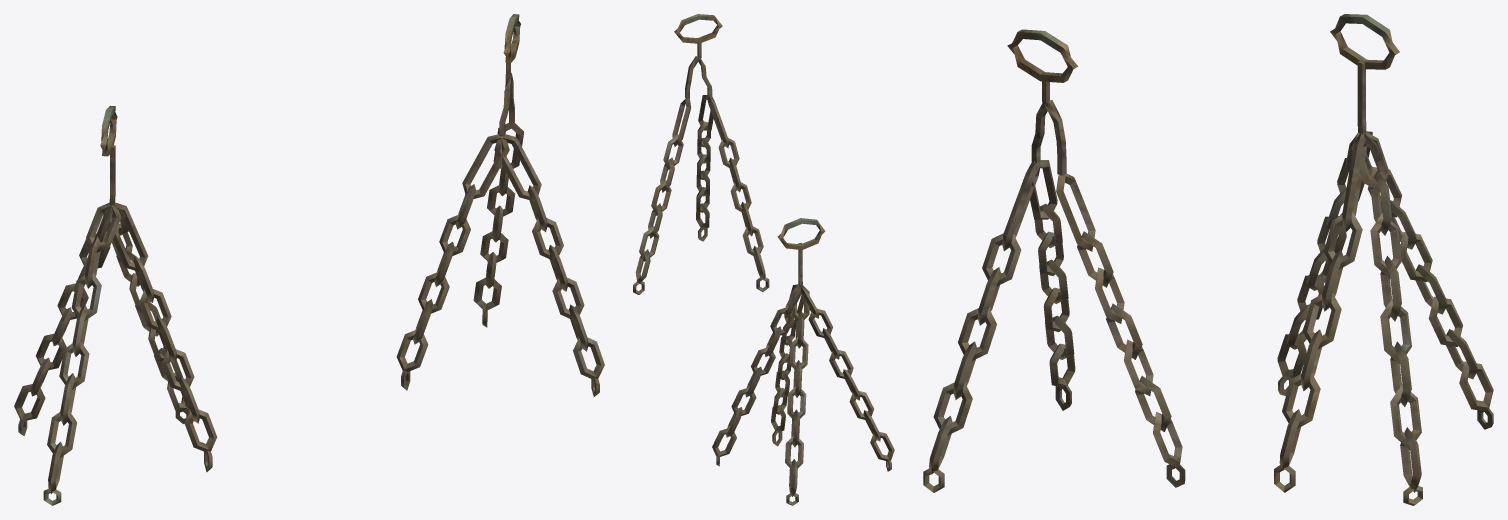
File: ScaleChains.fbx
The picture shows the model from 3 angles, left to right: view 1: azimuth 30°, elevation 25°; view 2: azimuth 150°, elevation 25°; view 3: azimuth 270°, elevation 25°; orthographic projection. The views are drawn at different scales.
Parts seen in each view (by area): view 1: Scale_Low_Chains; view 2: Scale_Low_Chains; view 3: Scale_Low_Chains.
Boxes of the visible parts, x1=… form: Scale_Low_Chains: x1=14, y1=14, x2=604, y2=505; Scale_Low_Chains: x1=633, y1=14, x2=894, y2=505; Scale_Low_Chains: x1=923, y1=14, x2=1493, y2=505.
Size of the model in its own units: 0.8347 by 0.9113 by 0.8043.
